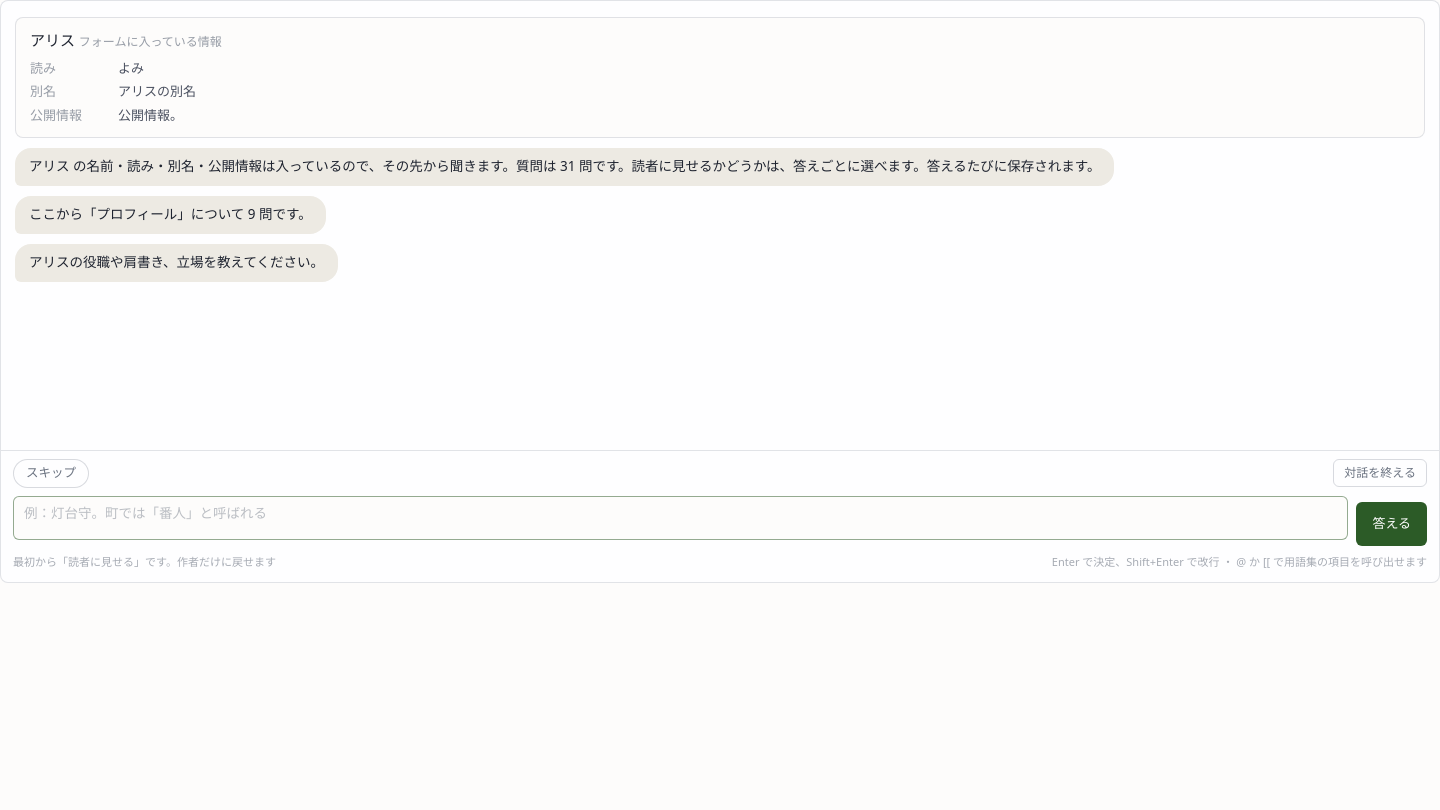
DialogPane（キー操作と保存） › Enter で決定し、Shift+Enter・IME 変換中の Enter は決定しない
Type "灯台守" into the text box named "答え". click: (681, 518)
box: [13,496,1348,540]
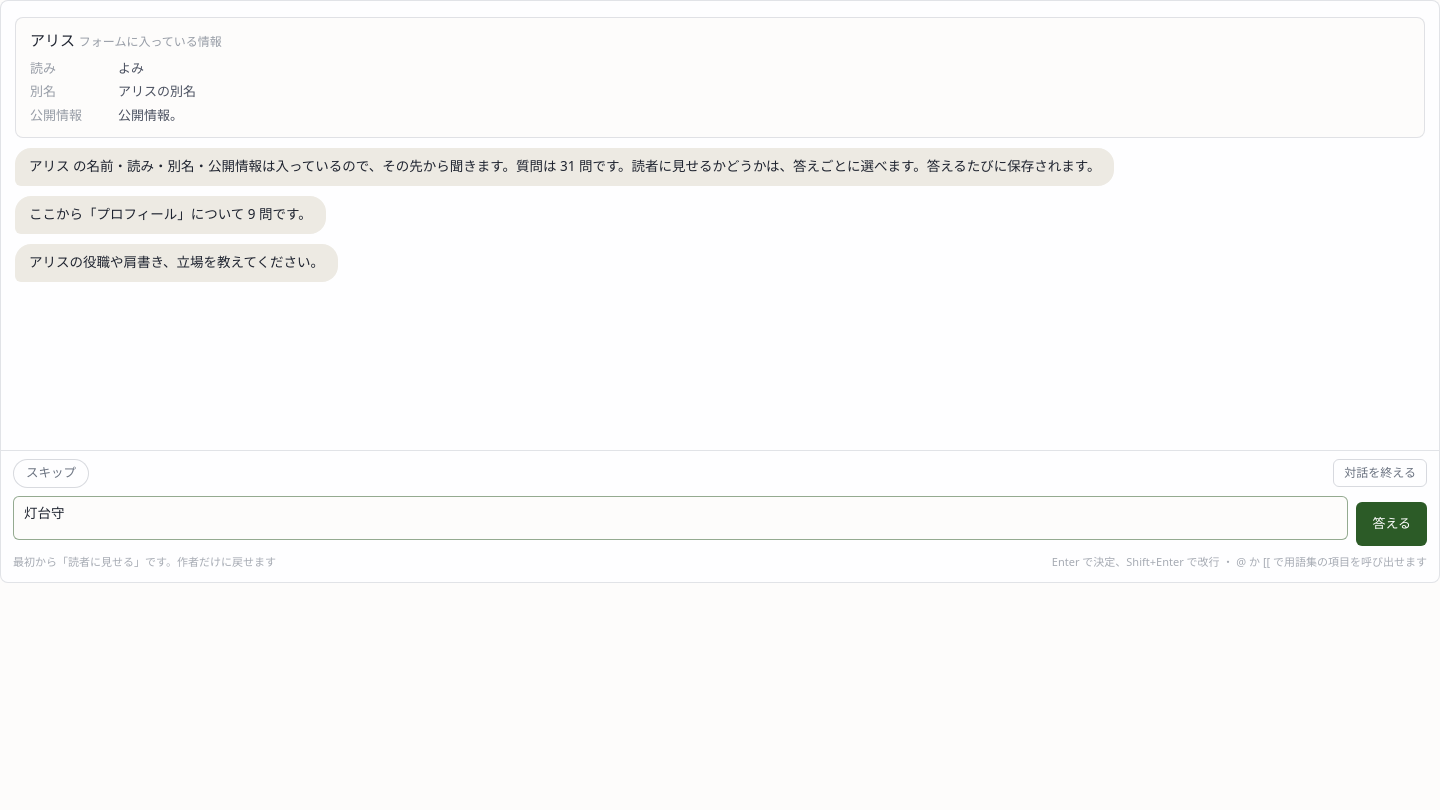
Press Enter in the text box named "答え", box [13,496,1348,540]
Press Enter in the text box named "答え", box [13,496,1348,540]
Press Enter in the text box named "答え", box [13,496,1348,540]
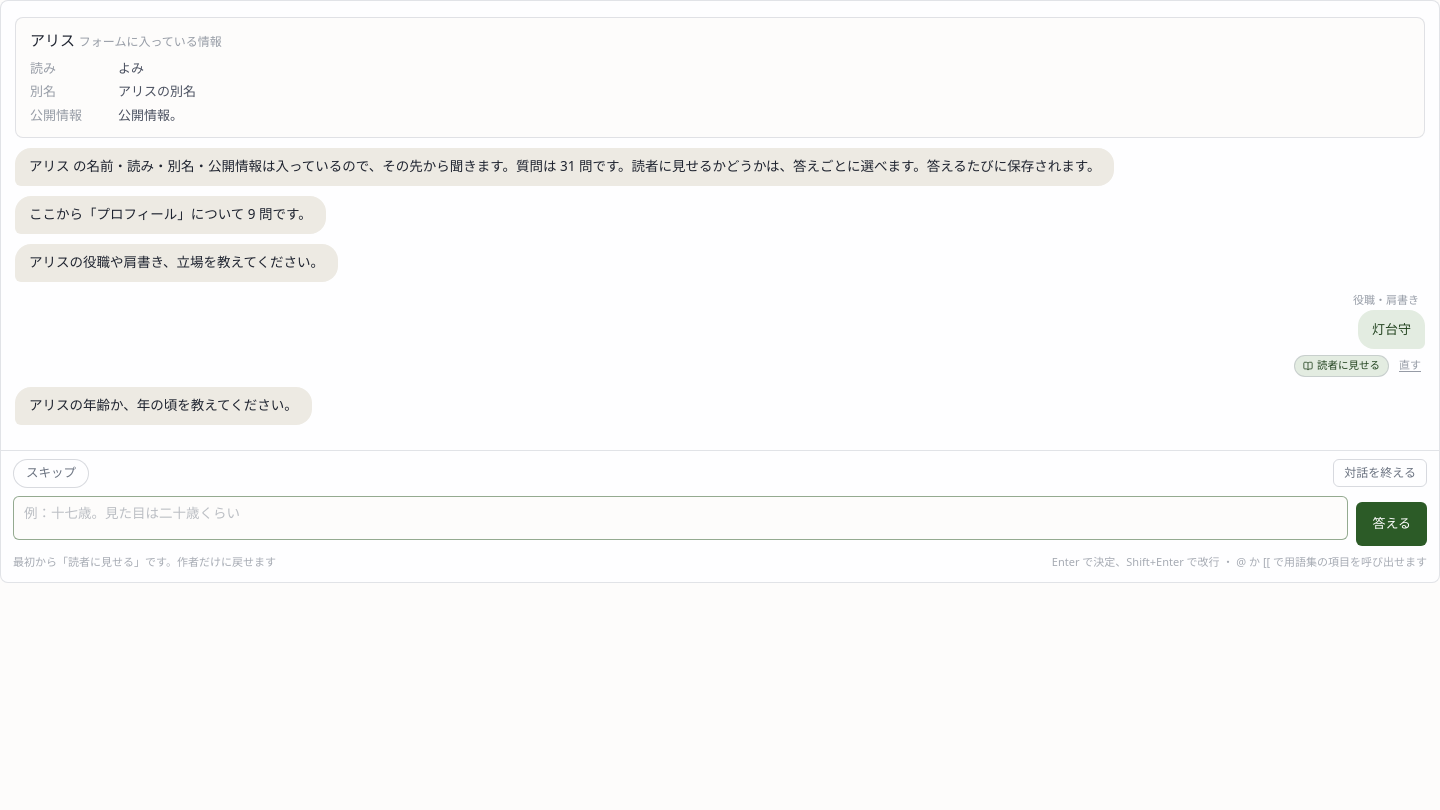
Result: the text "アリスの年齢か、年の頃を教えてください。" is shown at [15,387,312,425]
Result: the text box named "答え" is empty at [13,496,1348,540]
